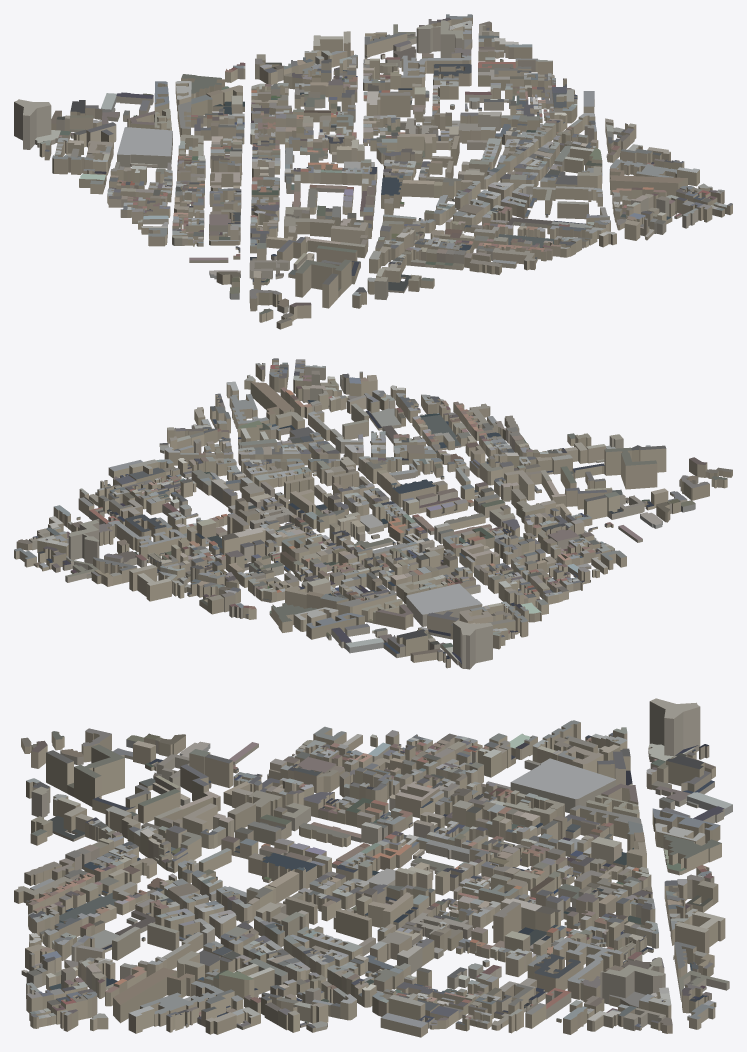
3 renders of one model, top to bottom at view 1: azimuth 30°, elevation 25°; view 2: azimuth 150°, elevation 25°; view 3: azimuth 270°, elevation 25°, orthographic. The views are drawn at different scales.
Parts seen in each view (by area): view 1: tuile; view 2: tuile; view 3: tuile.
Part boxes in pixels (<box>): tuile: <box>14,14,732,329</box>; tuile: <box>14,358,732,669</box>; tuile: <box>14,698,732,1037</box>.
Size of the model in its own units: 1048 by 72.55 by 1059.
